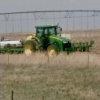Tractor: (20, 20, 81, 55)
